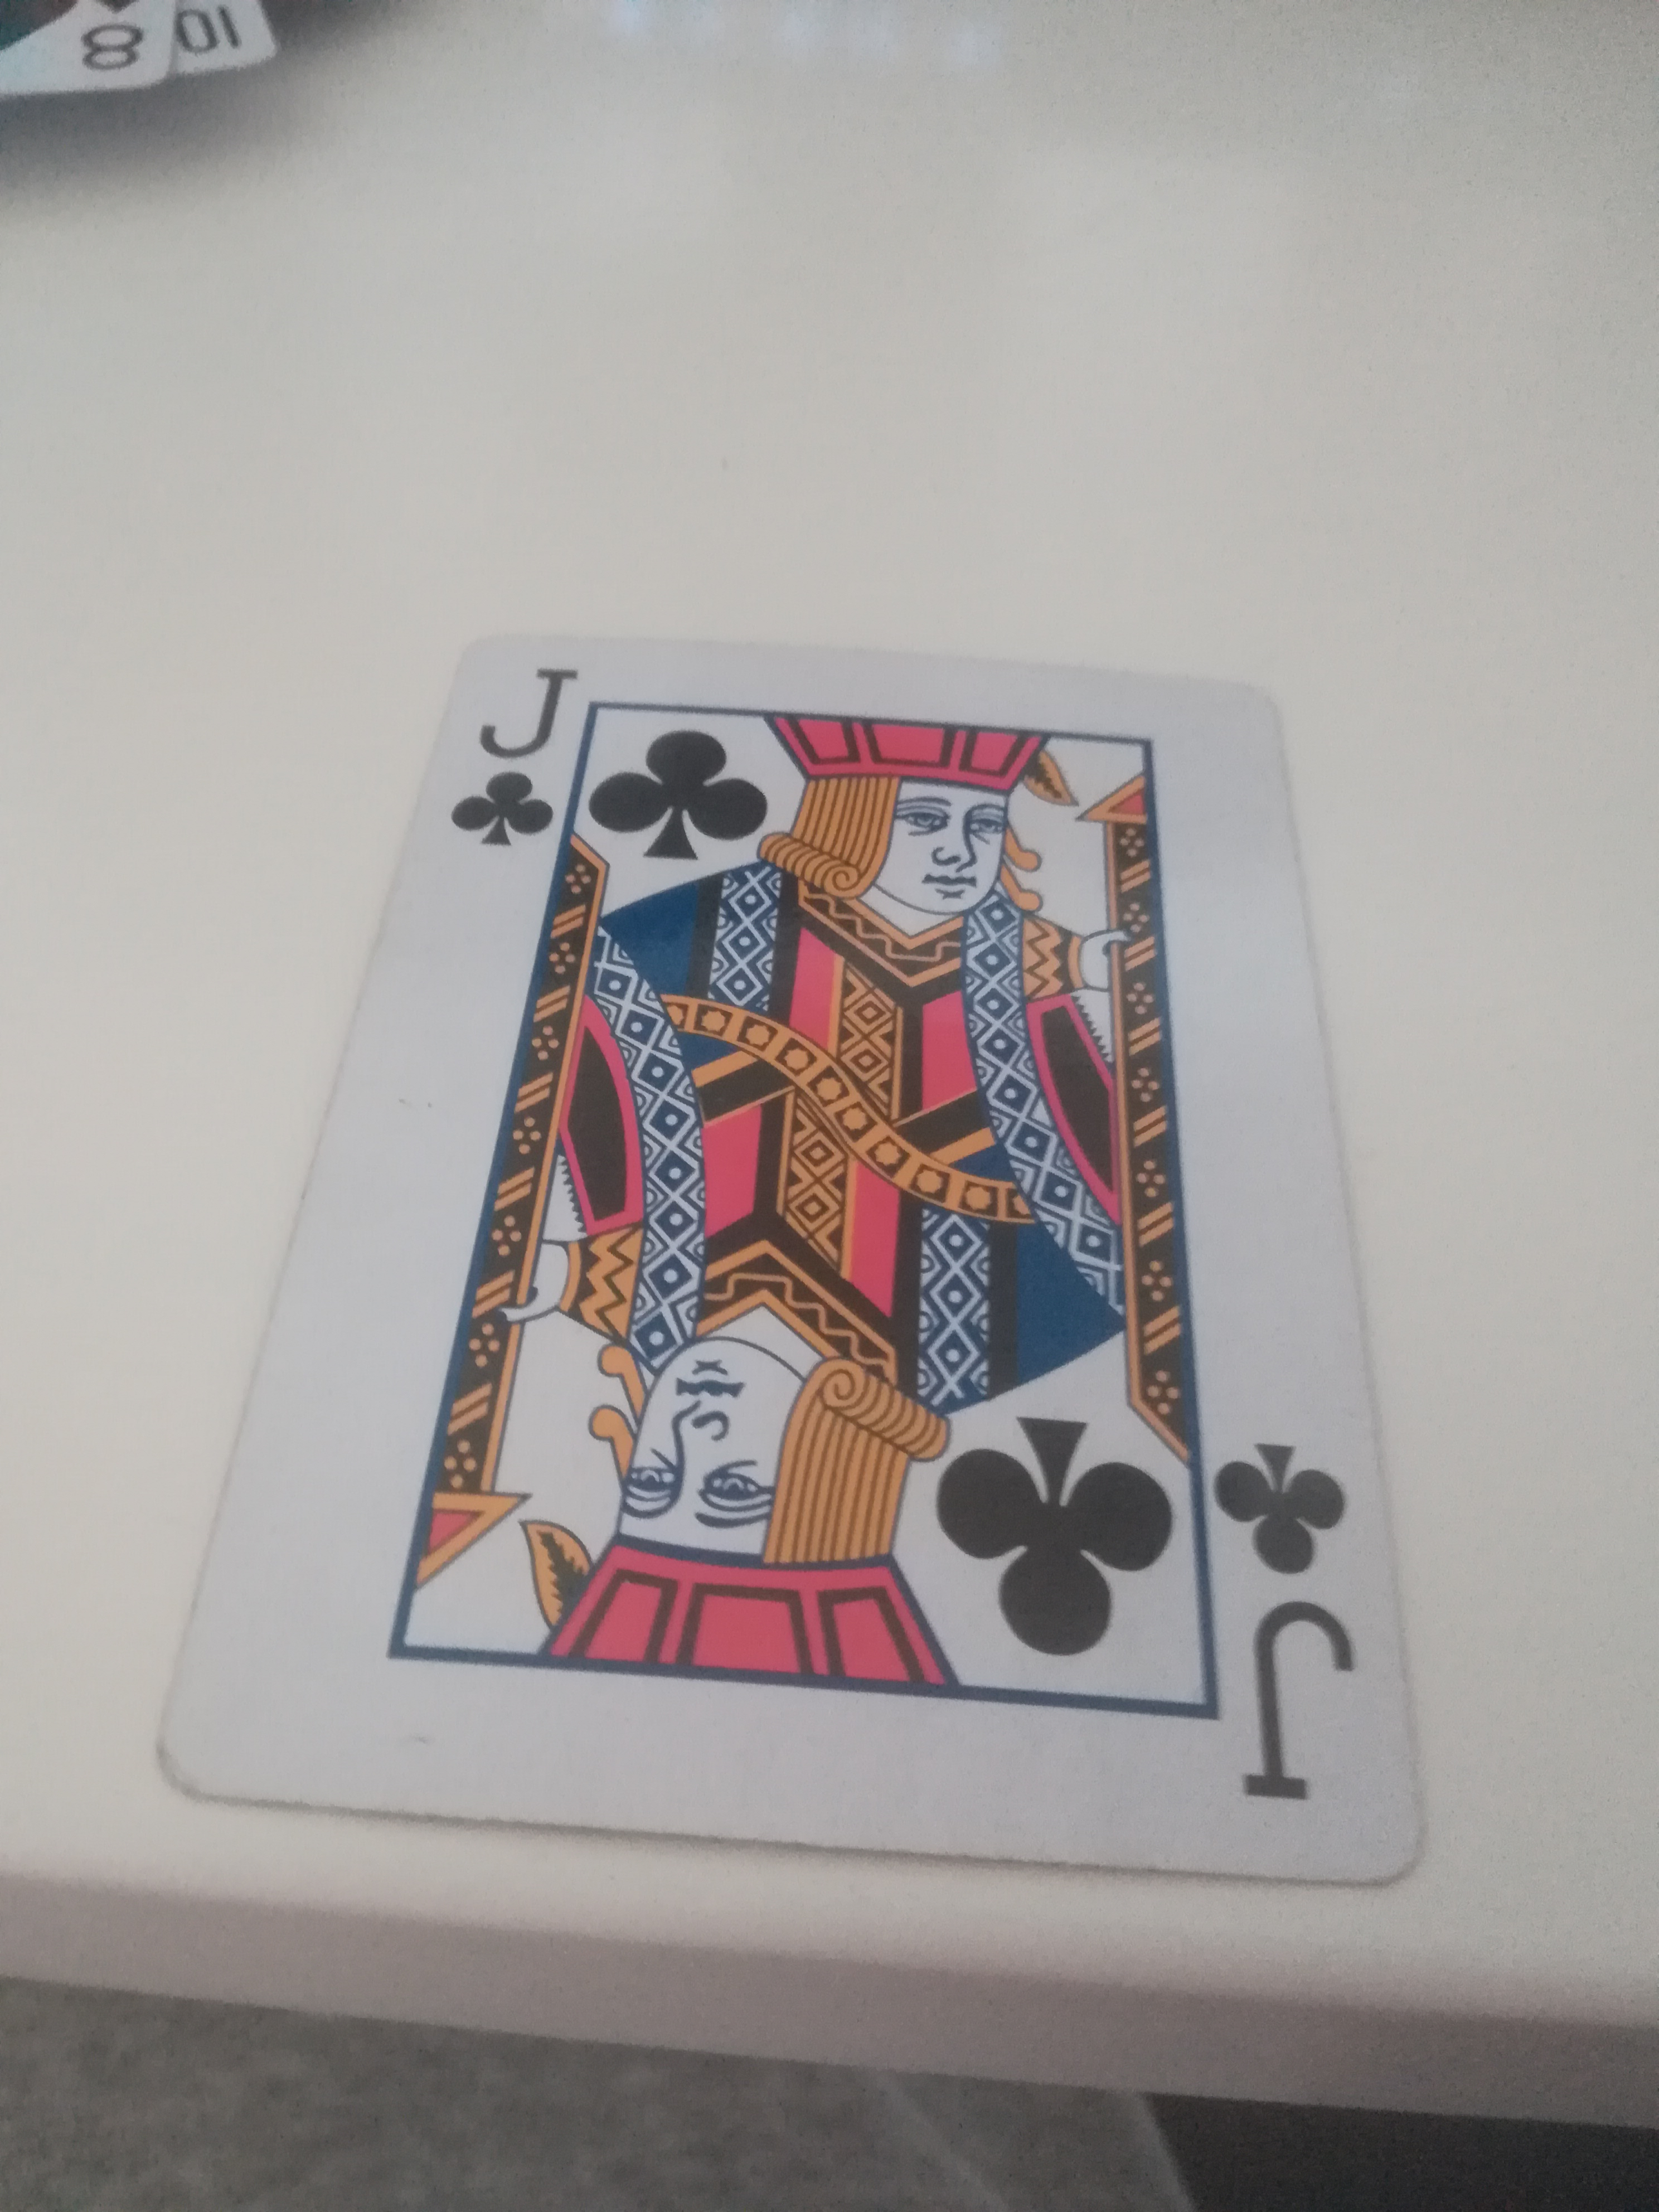JC: (173, 604, 1441, 1905)
